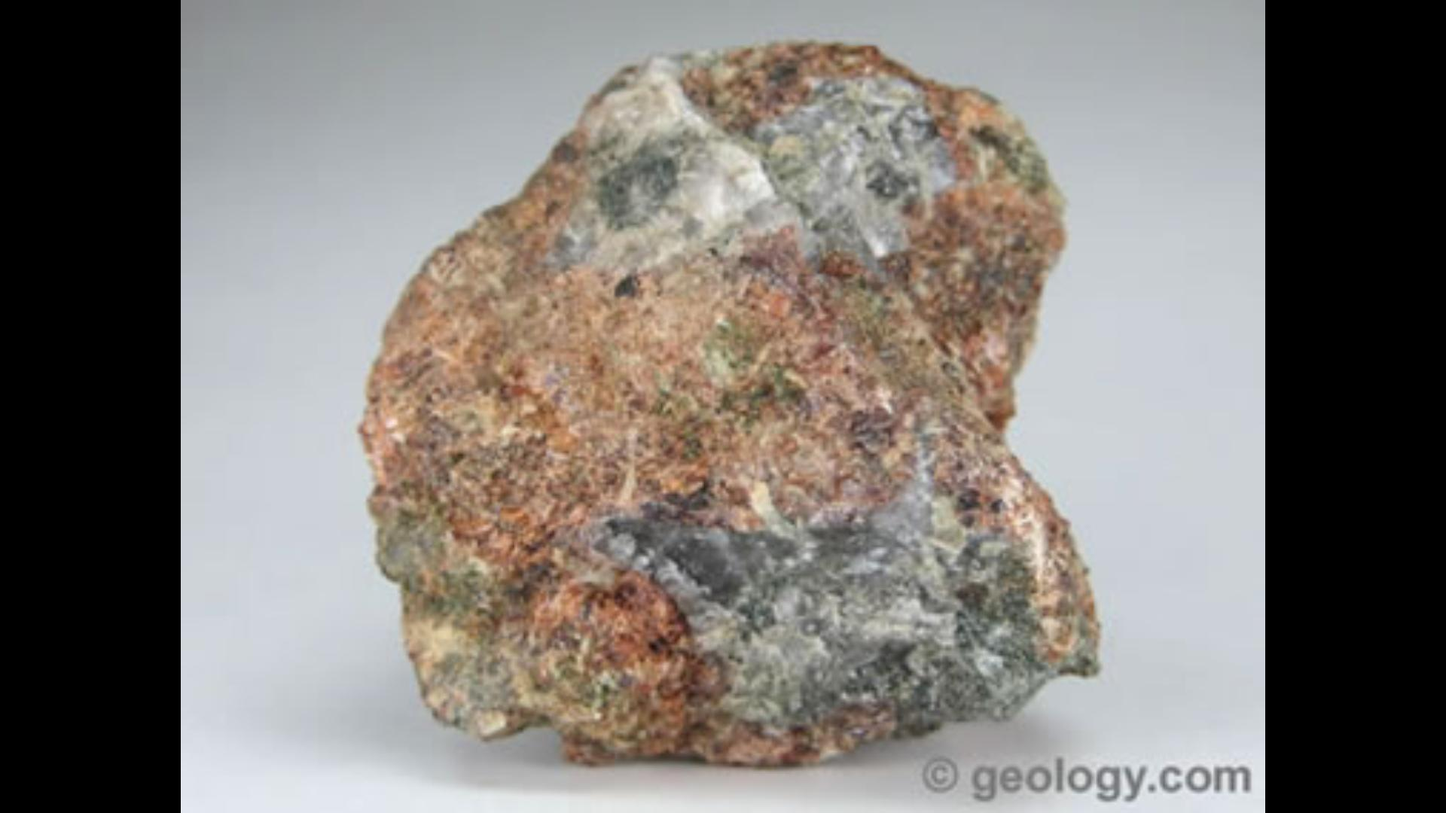rock: (366, 43, 1094, 762)
